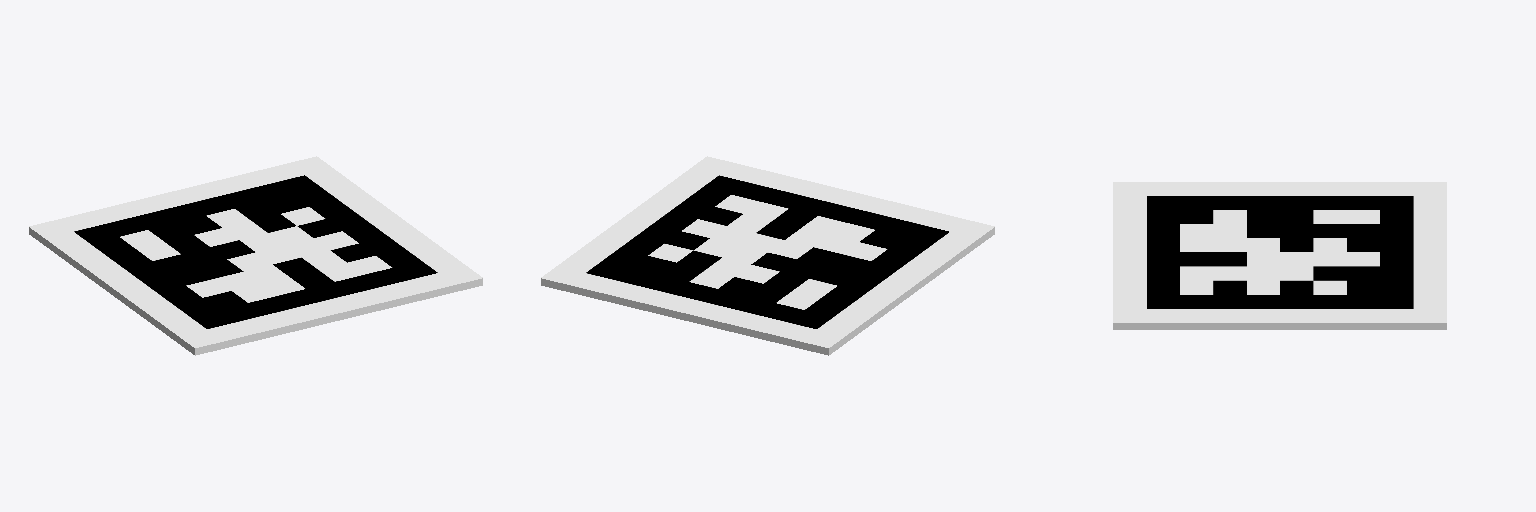
3 views of the same model, side by side, from view 1: azimuth 30°, elevation 25°; view 2: azimuth 150°, elevation 25°; view 3: azimuth 270°, elevation 25° (orthographic).
Parts seen in each view (by area): view 1: Cube; view 2: Cube; view 3: Cube.
Part boxes in pixels (x1,y1,x2,y2): Cube: (29,156,482,355); Cube: (541,156,994,355); Cube: (1113,182,1446,329).
Bounding box in the file's own units: 0.415 × 0.01 × 0.415.
Materials: 1 (1 with a texture image).